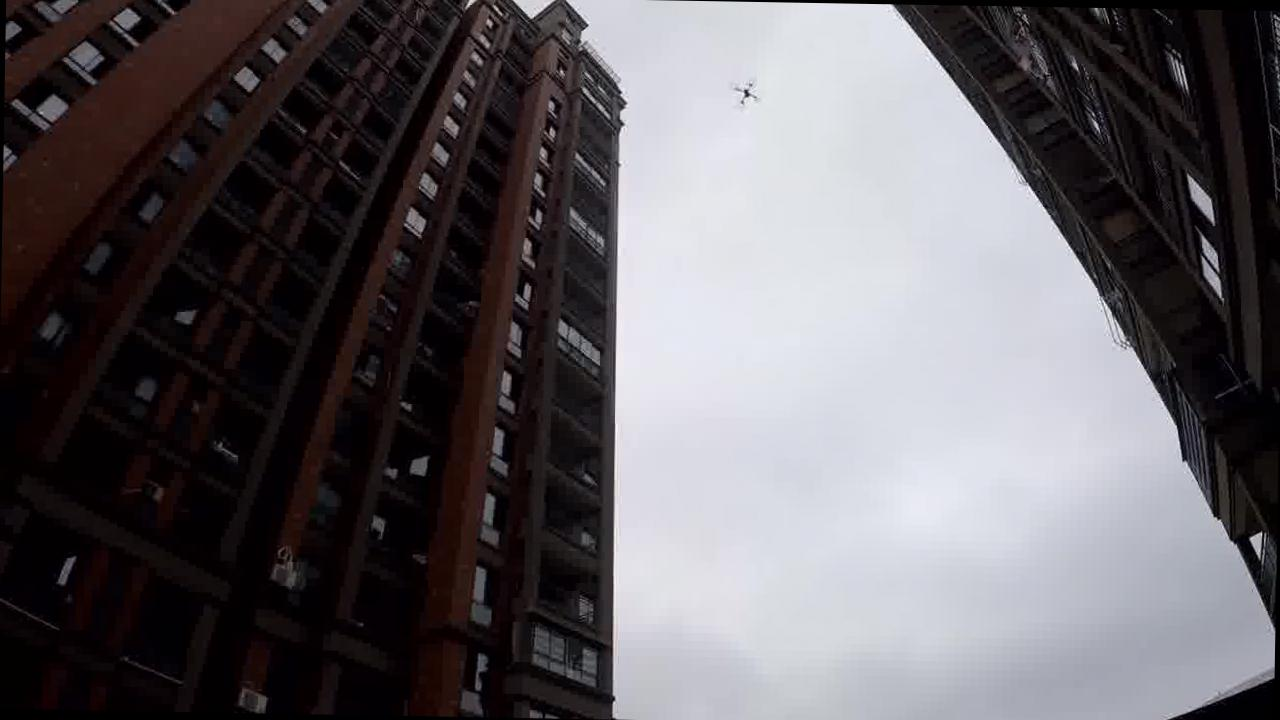drone: (706, 64, 798, 125)
